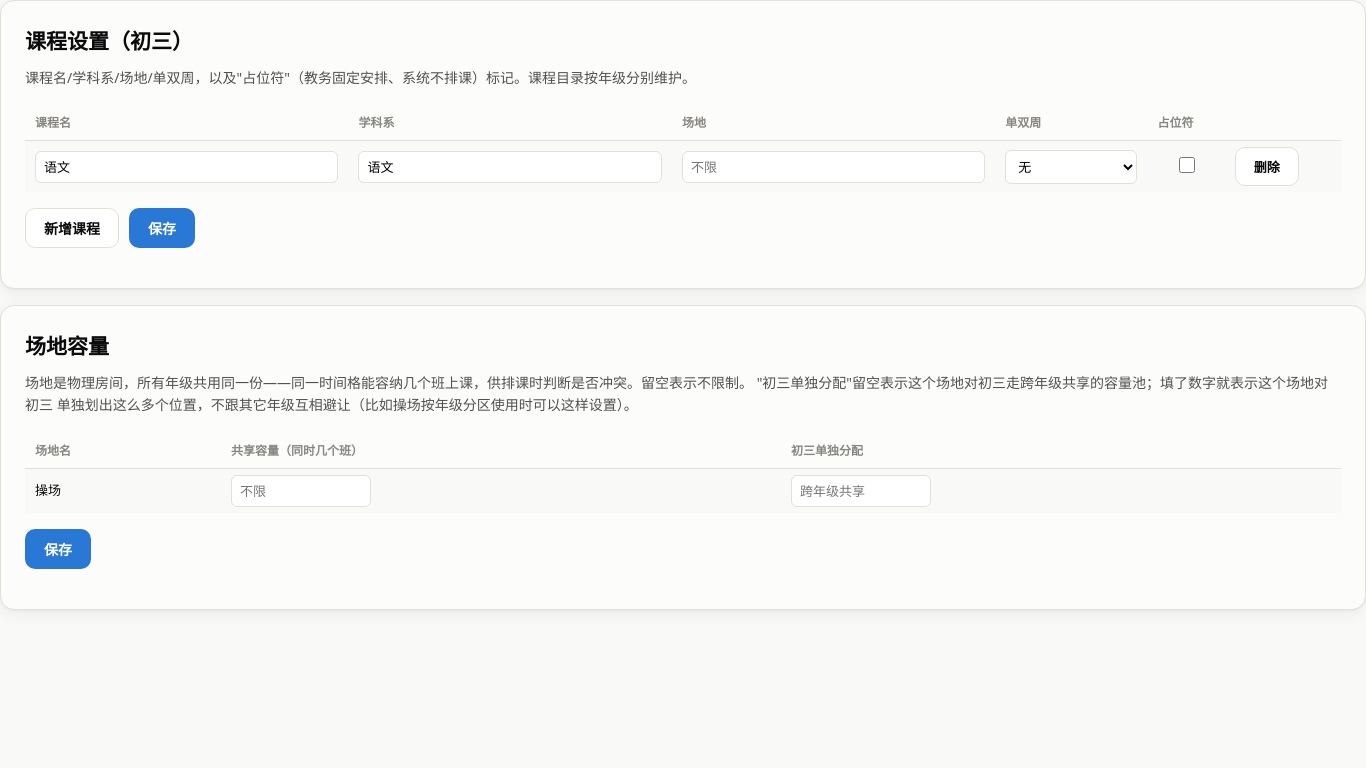
Test: CourseSettings › shows the backend error message when saving fails
The width and height of the screenshot is (1366, 768).
Click the button with test id "save-courses-button" at (162, 228), box [129, 208, 195, 248]
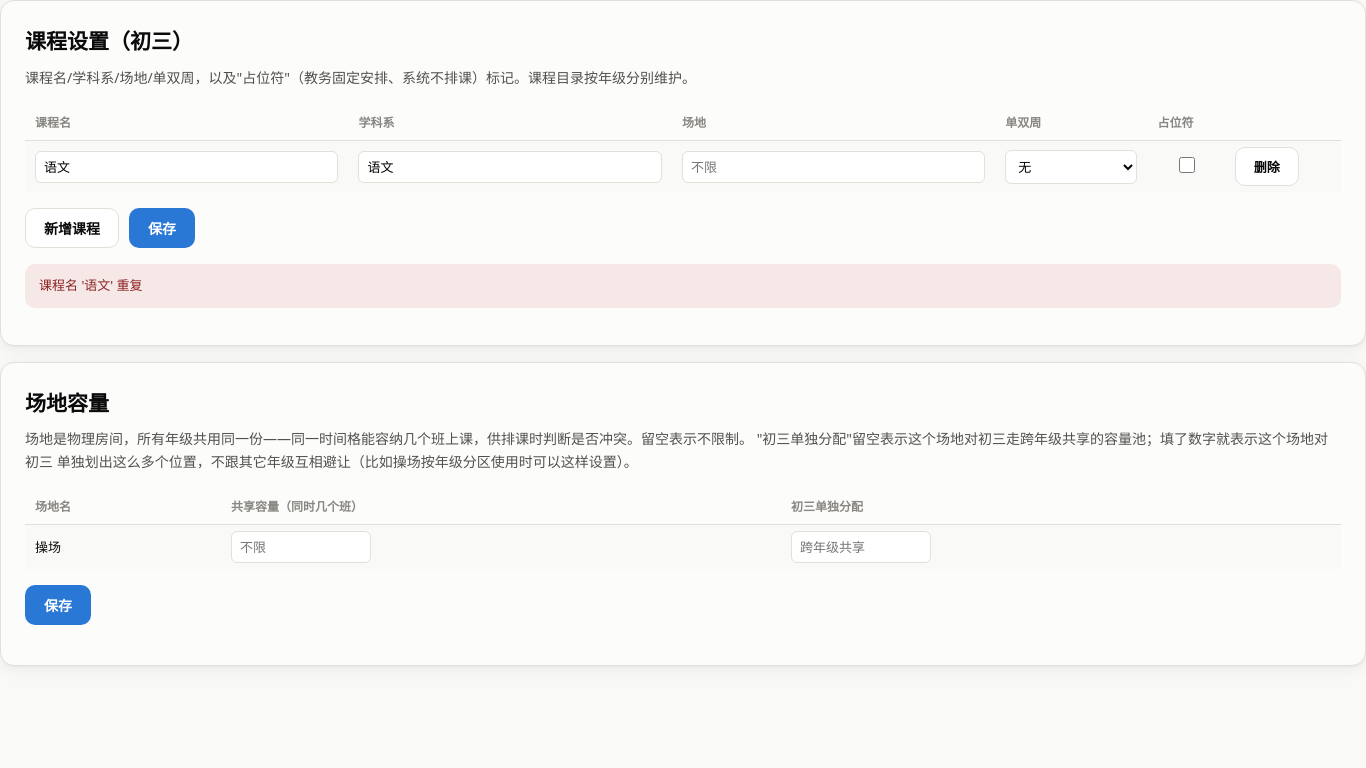
Expected: the text "重复" is shown, [39, 276, 143, 294]
